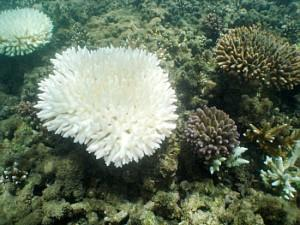bleached_corals: (32, 43, 181, 171), (176, 99, 248, 173), (180, 181, 300, 225), (0, 7, 54, 56), (261, 141, 300, 200)
